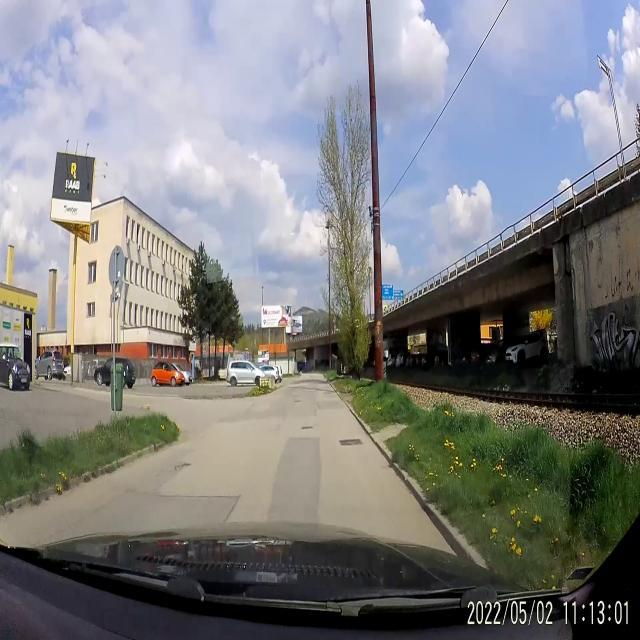Manhole: (338, 434, 364, 454)
Pothole: (172, 460, 192, 476), (298, 422, 316, 436)
